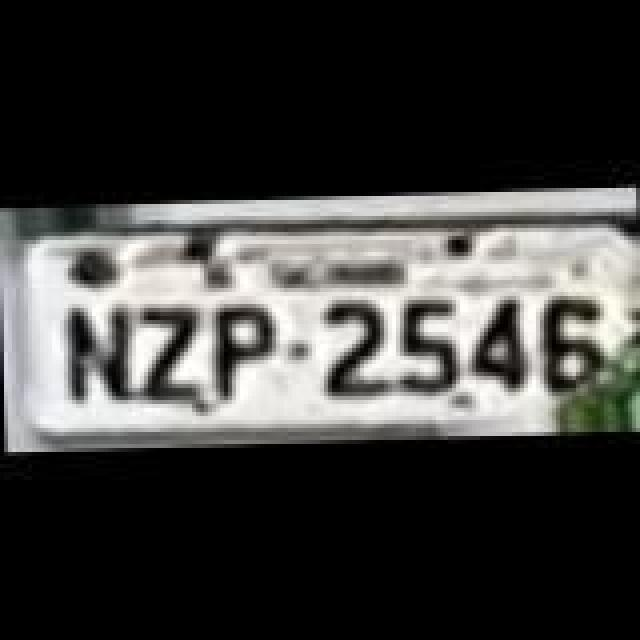2: (314, 294, 390, 394)
4: (462, 290, 530, 398)
5: (396, 290, 468, 398)
6: (536, 292, 600, 396)
N: (58, 298, 134, 406)
P: (204, 292, 276, 404)
Z: (136, 304, 200, 408)
